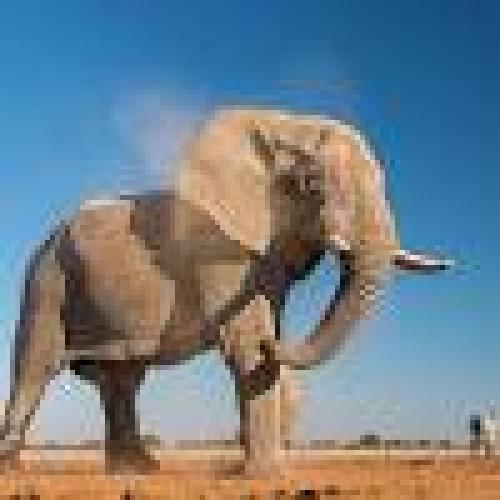asian_elephant-endangered: (0, 107, 455, 473)
